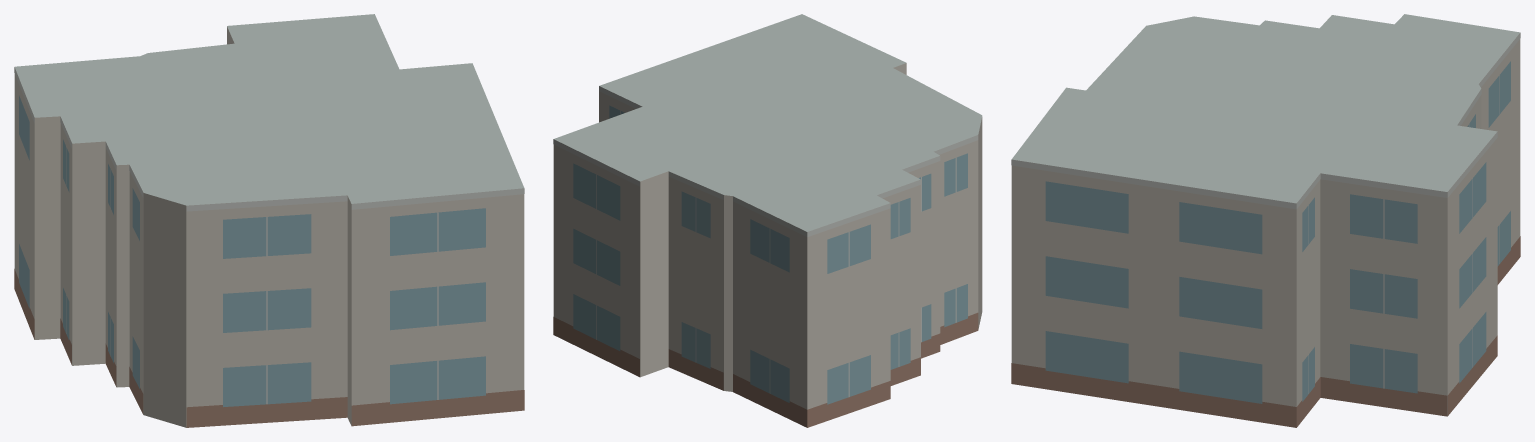
Rendered from survey-upis-32665745.glb.
3 renders of one model, left to right at view 1: azimuth 30°, elevation 25°; view 2: azimuth 150°, elevation 25°; view 3: azimuth 270°, elevation 25°, orthographic. The views are drawn at different scales.
Parts seen in each view (by area): view 1: survey-upis-32665745.tmp; view 2: survey-upis-32665745.tmp; view 3: survey-upis-32665745.tmp.
Boxes of the visible parts, bbox=[...] form: survey-upis-32665745.tmp: bbox=[14, 14, 524, 427]; survey-upis-32665745.tmp: bbox=[553, 14, 982, 427]; survey-upis-32665745.tmp: bbox=[1011, 14, 1520, 427].
Bounding box in the file's own units: 16.57 × 9.15 × 18.82.
